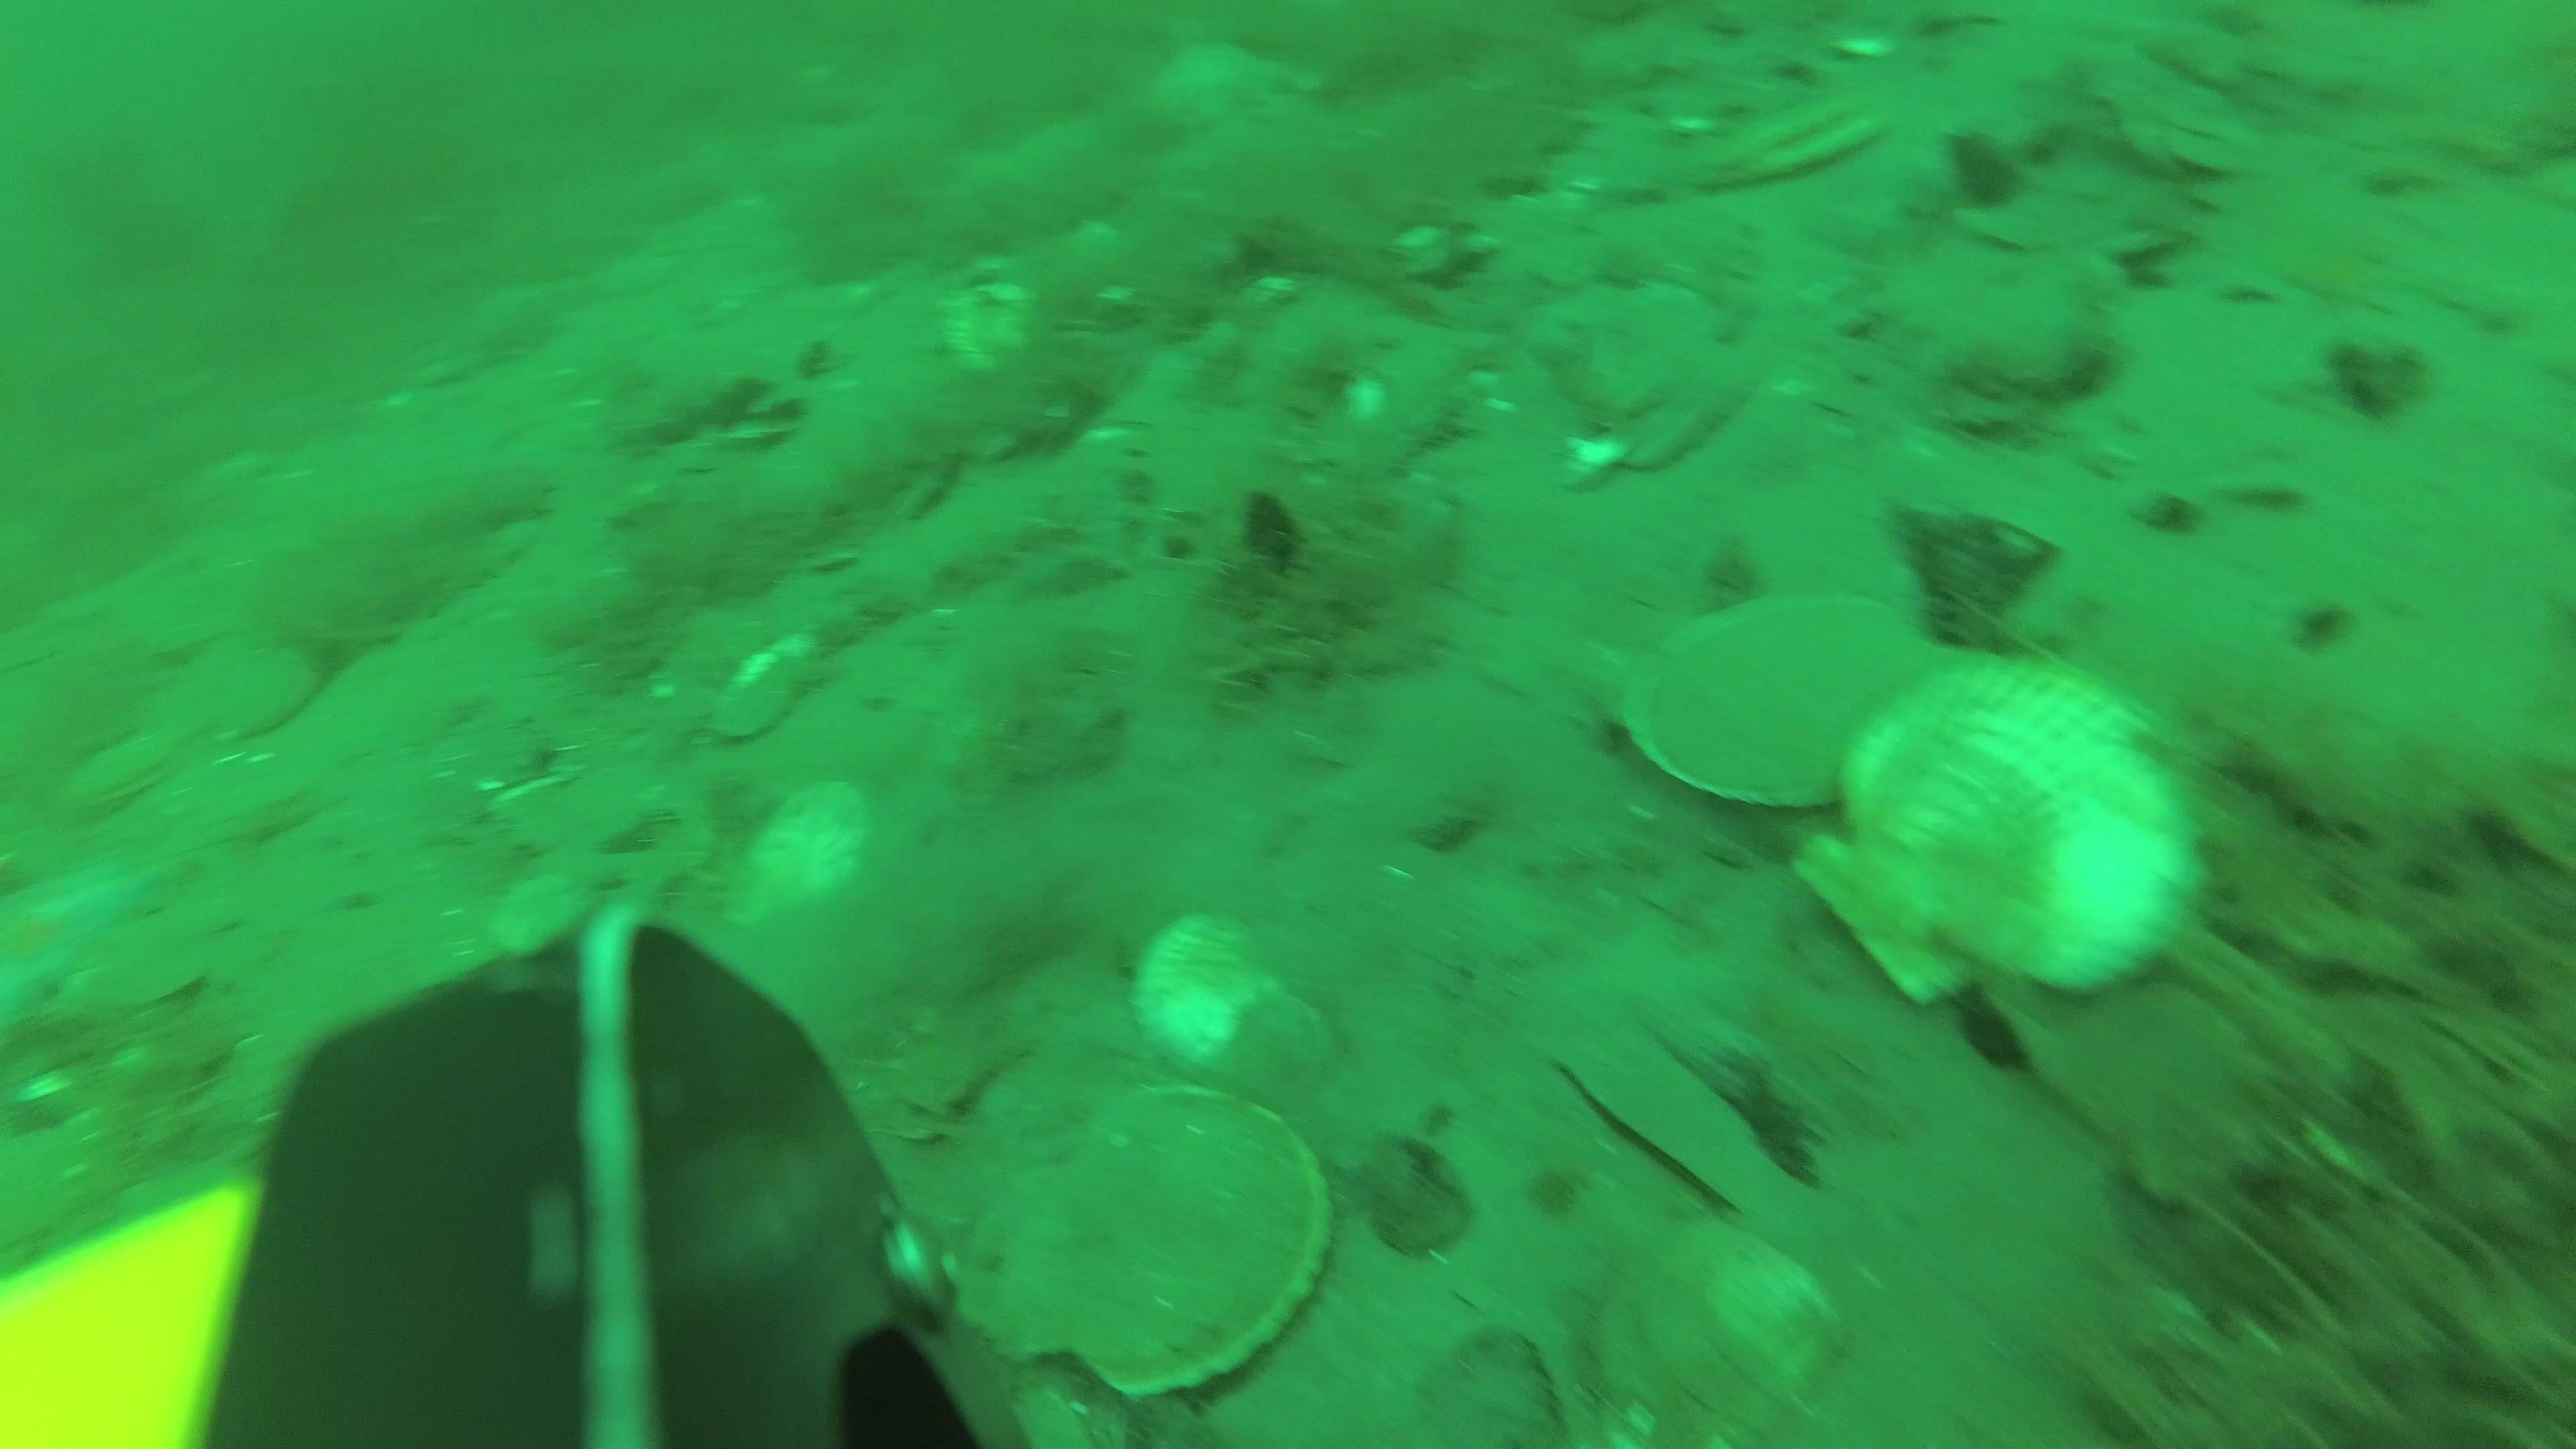scallop: (1789, 651, 2187, 1005), (962, 1102, 1322, 1391), (1622, 593, 1944, 809), (1585, 1194, 1849, 1447), (1136, 895, 1256, 1060), (1603, 341, 1748, 467), (1575, 271, 1709, 402), (732, 786, 862, 916), (211, 633, 350, 752), (1698, 97, 1881, 186), (713, 628, 819, 736), (936, 283, 1047, 377), (50, 732, 163, 814), (1231, 1007, 1336, 1092), (487, 883, 577, 959)
starfish: (7, 855, 147, 1040), (1143, 39, 1293, 117)
